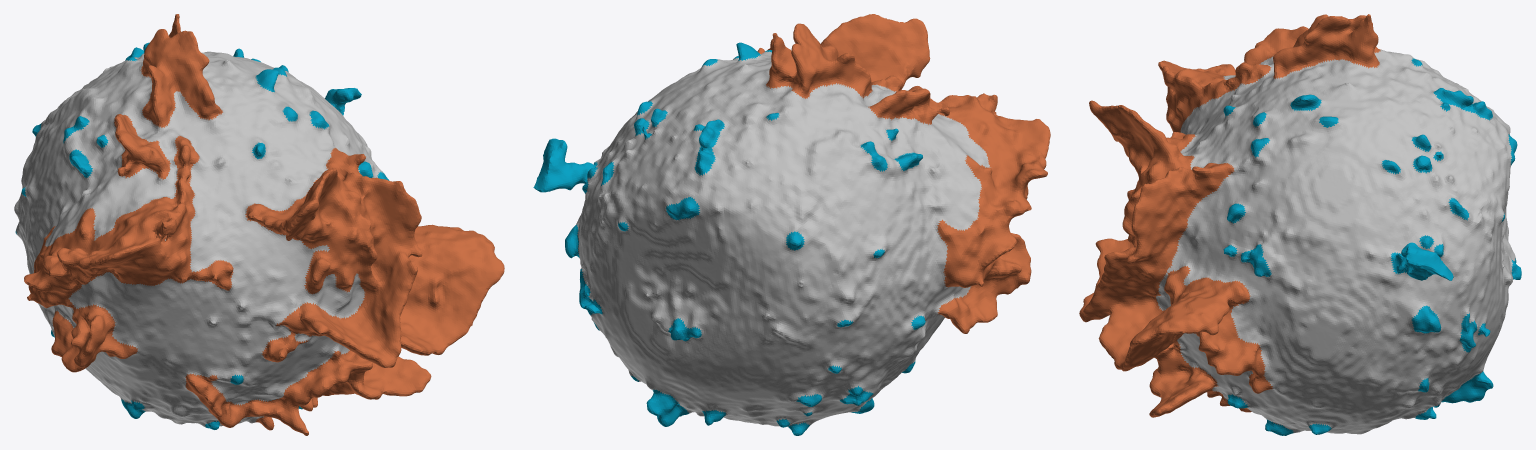
The picture shows the model from 3 angles, left to right: view 1: azimuth 30°, elevation 25°; view 2: azimuth 150°, elevation 25°; view 3: azimuth 270°, elevation 25°; orthographic projection. The views are drawn at different scales.
Size of the model in its own units: 182 by 167 by 169.
